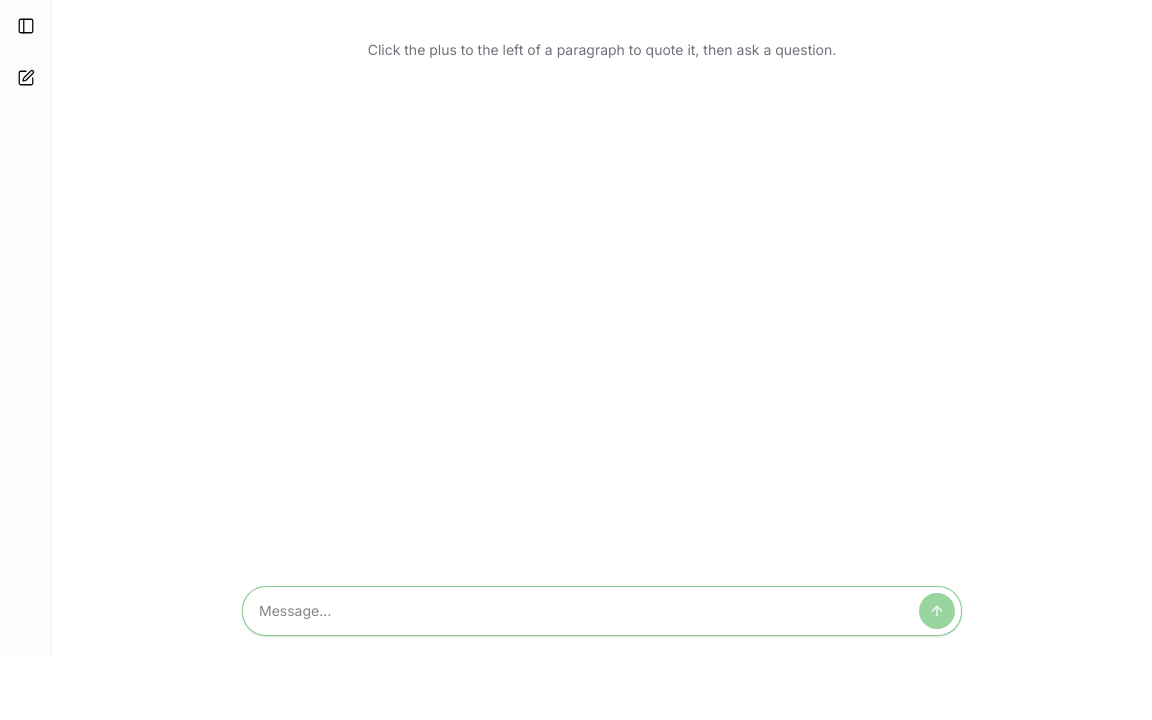
offers both versions of a conflicted draft without automatically overwriting the server
This screenshot has width=1152, height=720.
Step 1. Type "My copy" into the text box labelled "Message" → [585, 611], box [259, 593, 911, 629]
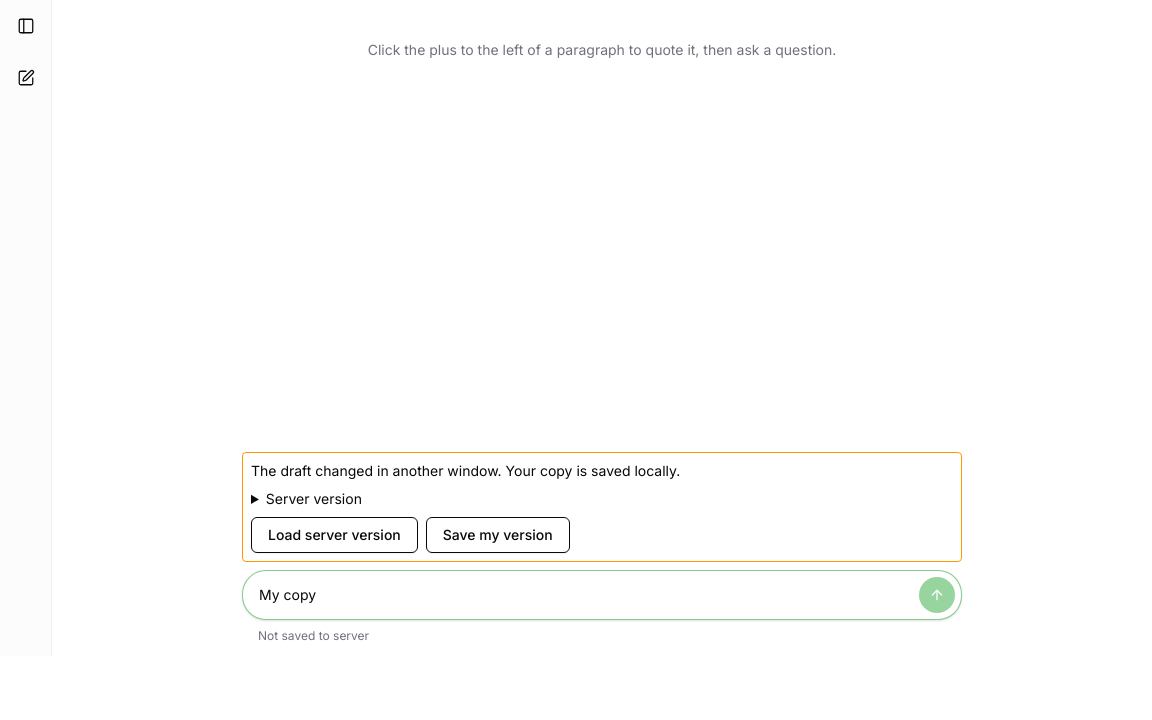
Step 2. Click the button "Load server version" → [334, 535], box [251, 517, 418, 553]
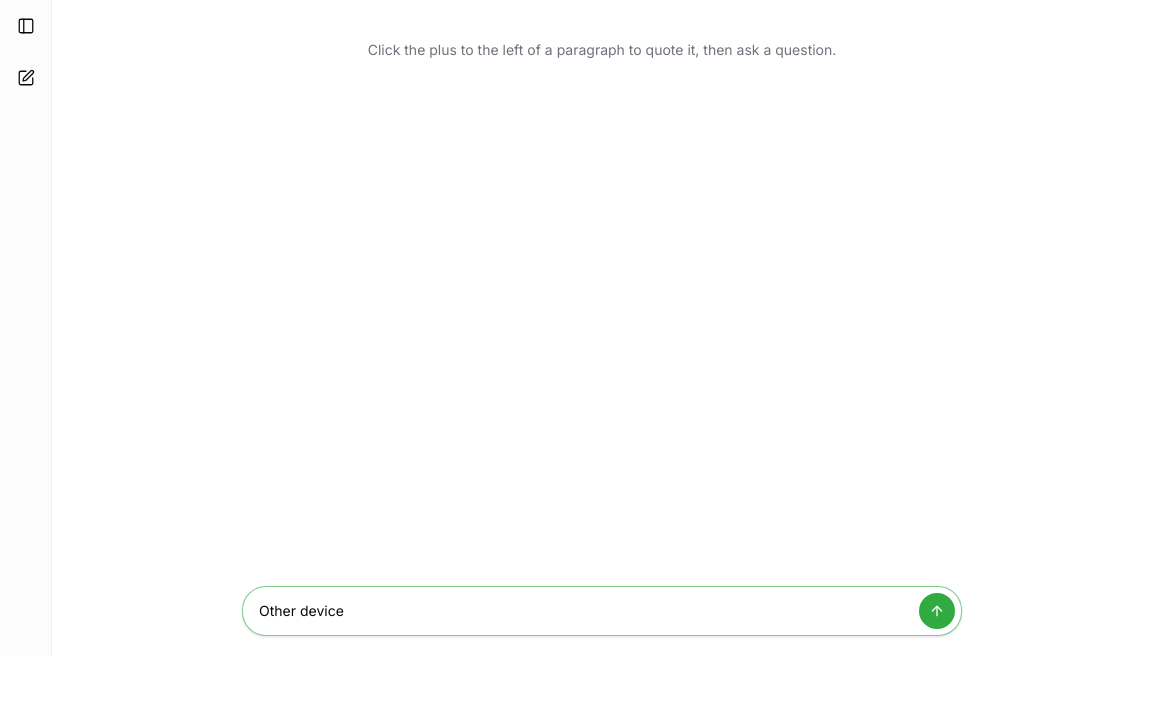
Expected: the text box named "Message" holds "Other device", [259, 593, 911, 629]
